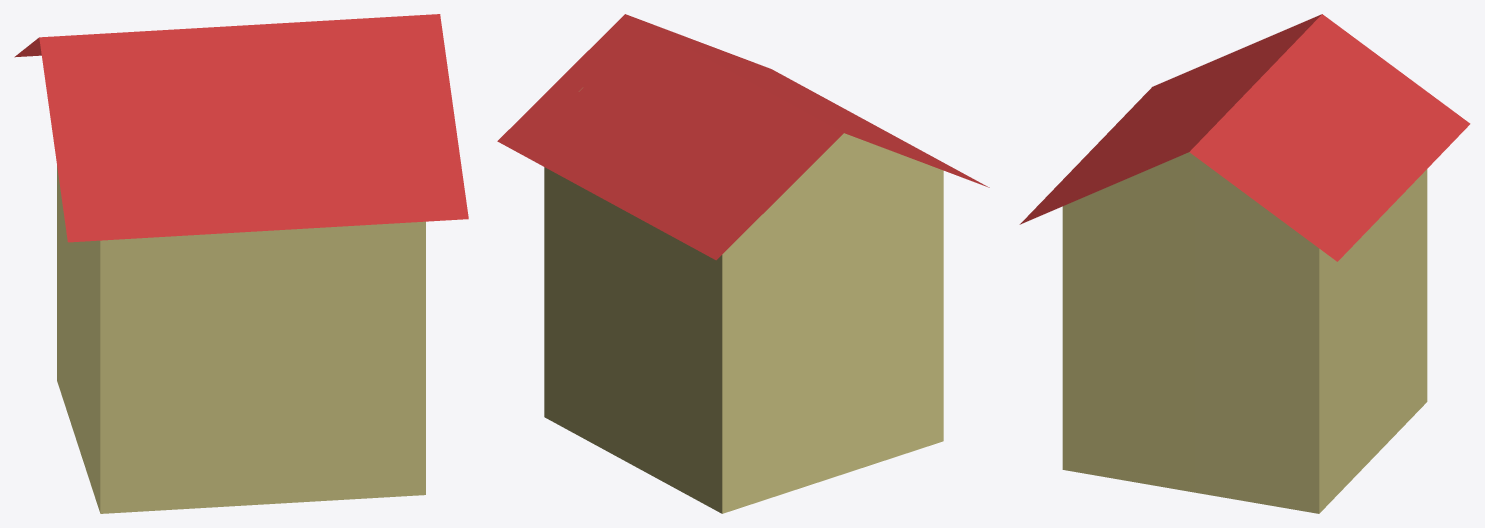
3 renders of one model, left to right at view 1: azimuth 30°, elevation 25°; view 2: azimuth 150°, elevation 25°; view 3: azimuth 270°, elevation 25°, orthographic. The views are drawn at different scales.
Size of the model in its own units: 10.29 by 10.18 by 8.83.
